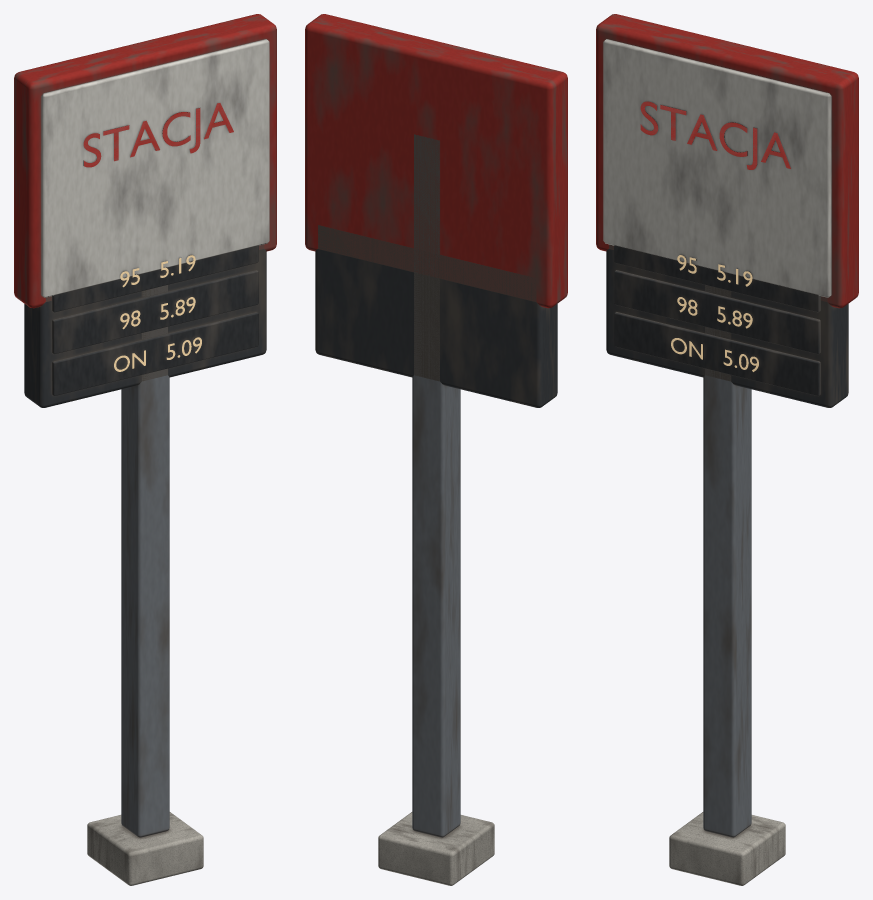
File: stacja_slup.glb
3 views of the same model, side by side, from view 1: azimuth 30°, elevation 25°; view 2: azimuth 150°, elevation 25°; view 3: azimuth 330°, elevation 25° (orthographic).
Parts seen in each view (by area): view 1: Slup, Napisy; view 2: Slup; view 3: Slup, Napisy.
Boxes of the visible parts, <box> form: Slup: <box>14,14,276,885</box>; Napisy: <box>83,103,233,371</box>; Slup: <box>305,14,567,885</box>; Slup: <box>596,14,858,885</box>; Napisy: <box>640,101,790,371</box>.
Bounding box in the file's own units: 2.3 × 7.2 × 0.7.
Materials: 2 (2 with a texture image).
